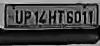0: (74, 9, 82, 26)
1: (87, 10, 95, 26), (34, 9, 39, 24), (82, 9, 87, 24)
4: (39, 12, 47, 25)
6: (65, 9, 73, 24)
H: (49, 9, 57, 24)
P: (24, 9, 31, 26)
T: (57, 11, 65, 24)
U: (14, 8, 24, 26)
